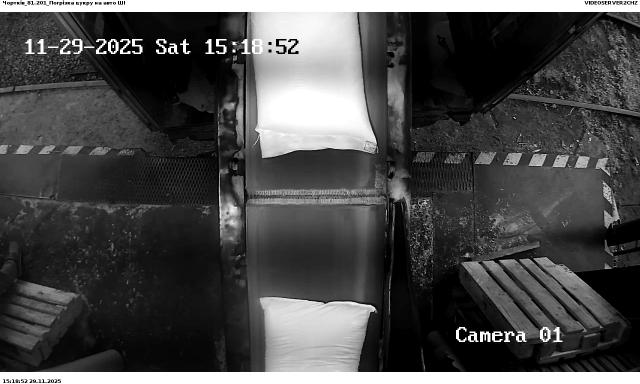bag: (250, 12, 378, 160), (259, 297, 377, 372)
